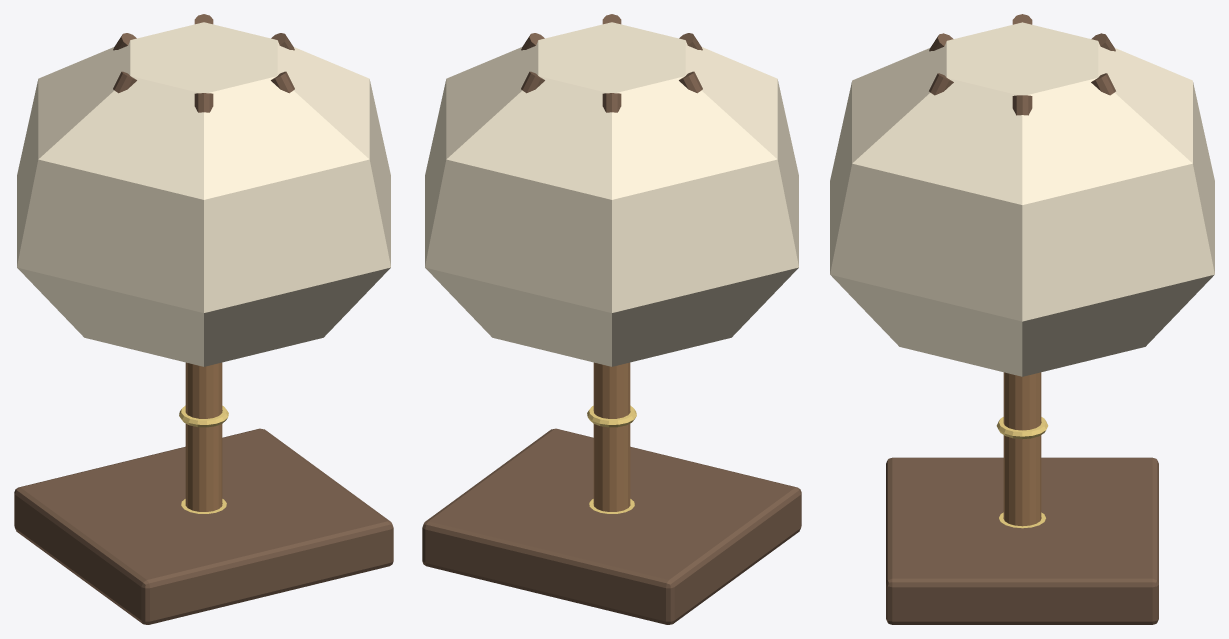
The model's file is stage_bonbori.glb.
The picture shows the model from 3 angles, left to right: view 1: azimuth 30°, elevation 25°; view 2: azimuth 150°, elevation 25°; view 3: azimuth 270°, elevation 25°; orthographic projection. The views are drawn at different scales.
Parts seen in each view (by area): view 1: Bonbori hexagonal washi lantern shade, Snow lantern hex-style stage plinth, Snow lantern pedestal; view 2: Bonbori hexagonal washi lantern shade, Snow lantern hex-style stage plinth, Snow lantern pedestal; view 3: Bonbori hexagonal washi lantern shade, Snow lantern hex-style stage plinth, Snow lantern pedestal, Snow lantern pedestal binding.001.
Boxes of the visible parts, bbox=[...] form: Bonbori hexagonal washi lantern shade: bbox=[17, 22, 390, 366]; Snow lantern hex-style stage plinth: bbox=[14, 428, 393, 624]; Snow lantern pedestal: bbox=[185, 362, 222, 511]; Bonbori hexagonal washi lantern shade: bbox=[425, 22, 798, 366]; Snow lantern hex-style stage plinth: bbox=[422, 428, 801, 624]; Snow lantern pedestal: bbox=[593, 362, 630, 511]; Bonbori hexagonal washi lantern shade: bbox=[830, 22, 1214, 376]; Snow lantern hex-style stage plinth: bbox=[886, 457, 1158, 624]; Snow lantern pedestal: bbox=[1003, 372, 1041, 526]; Snow lantern pedestal binding.001: bbox=[996, 417, 1048, 439].
Size of the model in its own units: 1.54 by 1.95 by 1.33.
